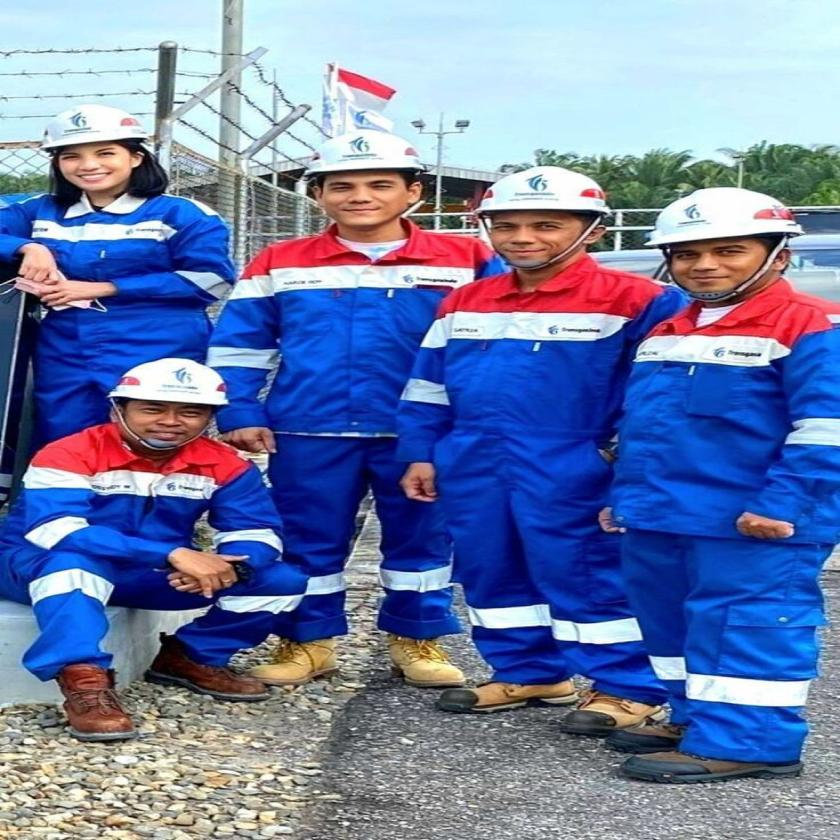Con_casco: (650, 182, 812, 321), (294, 131, 432, 249), (480, 164, 616, 279), (39, 98, 171, 200), (105, 354, 233, 456)
